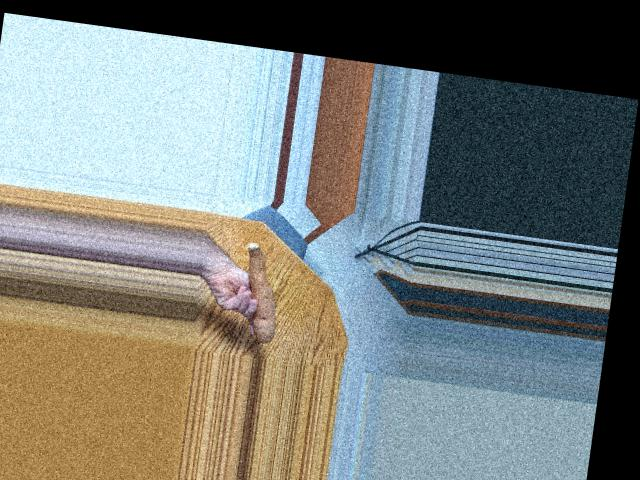sweet_potato: (232, 239, 290, 342)
